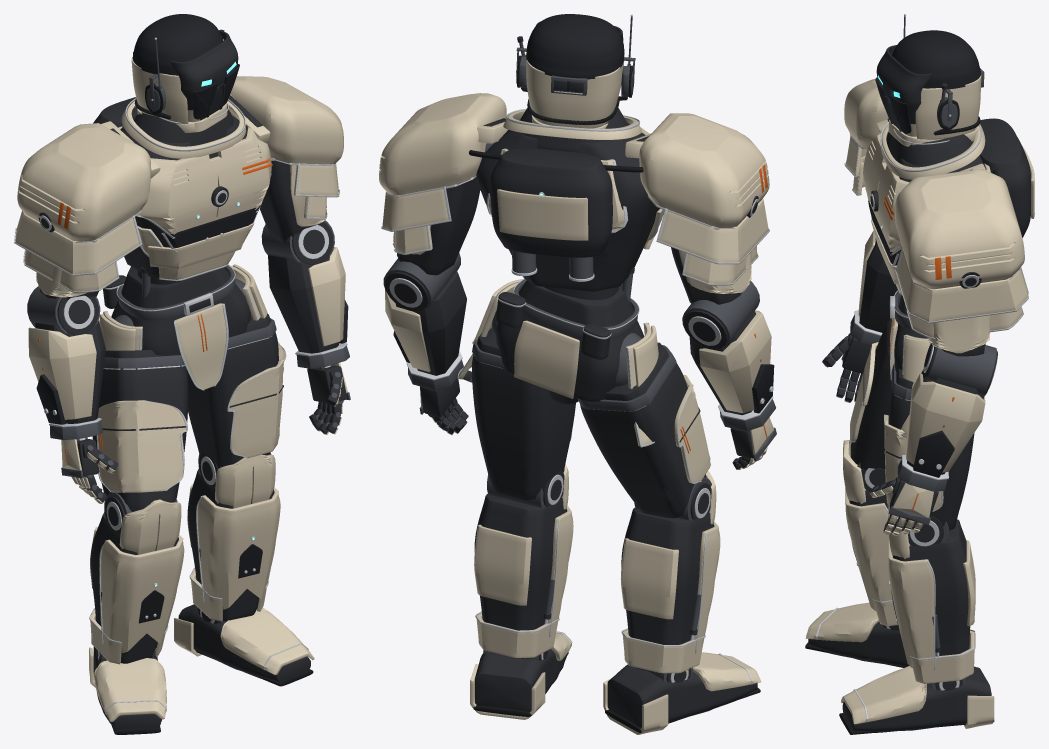
The model's file is waechter.glb.
3 renders of one model, left to right at view 1: azimuth 30°, elevation 25°; view 2: azimuth 150°, elevation 25°; view 3: azimuth 270°, elevation 25°, orthographic. The views are drawn at different scales.
Parts seen in each view (by area): view 1: pauldron_r, chest, thigh_R_thigh_shell, shin_L_shin_shell, pauldron_l, shin_R_shin_shell, thigh_L_thigh_core, pelvis_core, thigh_R_thigh_core, arm_R_fore_shell, pauldron_r_flare, thigh_L_thigh_shell (+44 smaller); view 2: pauldron_r, thigh_L_thigh_core, thigh_R_thigh_core, pauldron_l, backpack, torso_core, pelvis_core, shin_L_shin_core, shin_R_shin_core, cap, foot_R_foot_core, arm_R_fore_shell (+37 smaller); view 3: pauldron_l, shin_L_shin_core, arm_L_fore_shell, pauldron_l_flare, shin_L_shin_shell, cap, shin_R_shin_shell, foot_L_foot_core, backpack, foot_L_toe_cap, thigh_R_thigh_core, chest (+31 smaller).
Part boxes in pixels (bbox=[...]): pauldron_r: bbox=[17, 123, 151, 241]; chest: bbox=[137, 127, 271, 234]; thigh_R_thigh_shell: bbox=[97, 400, 186, 492]; shin_L_shin_shell: bbox=[197, 487, 280, 609]; pauldron_l: bbox=[230, 76, 343, 164]; shin_R_shin_shell: bbox=[100, 534, 184, 653]; thigh_L_thigh_core: bbox=[188, 313, 278, 468]; pelvis_core: bbox=[111, 266, 250, 365]; thigh_R_thigh_core: bbox=[92, 350, 188, 511]; arm_R_fore_shell: bbox=[28, 327, 96, 419]; pauldron_r_flare: bbox=[15, 211, 139, 274]; thigh_L_thigh_shell: bbox=[228, 359, 283, 457]; pauldron_r: bbox=[639, 113, 769, 227]; thigh_L_thigh_core: bbox=[472, 328, 575, 500]; thigh_R_thigh_core: bbox=[580, 342, 706, 518]; pauldron_l: bbox=[379, 93, 506, 195]; backpack: bbox=[490, 148, 612, 257]; torso_core: bbox=[475, 120, 659, 291]; pelvis_core: bbox=[496, 280, 644, 401]; shin_L_shin_core: bbox=[474, 493, 566, 658]; shin_R_shin_core: bbox=[621, 507, 713, 673]; cap: bbox=[526, 14, 624, 79]; foot_R_foot_core: bbox=[607, 664, 757, 727]; arm_R_fore_shell: bbox=[699, 310, 771, 413]; pauldron_l: bbox=[895, 169, 1024, 289]; shin_L_shin_core: bbox=[893, 519, 970, 655]; arm_L_fore_shell: bbox=[906, 373, 985, 472]; pauldron_l_flare: bbox=[896, 249, 1028, 321]; shin_L_shin_shell: bbox=[888, 540, 935, 668]; cap: bbox=[892, 30, 980, 89]; shin_R_shin_shell: bbox=[845, 488, 892, 610]; foot_L_foot_core: bbox=[842, 666, 991, 732]; backpack: bbox=[980, 118, 1030, 237]; foot_L_toe_cap: bbox=[841, 666, 926, 724]; thigh_R_thigh_core: bbox=[850, 325, 890, 469]; chest: bbox=[863, 133, 909, 251].
Bounding box in the file's own units: 0.8659 × 1.67 × 0.525.
